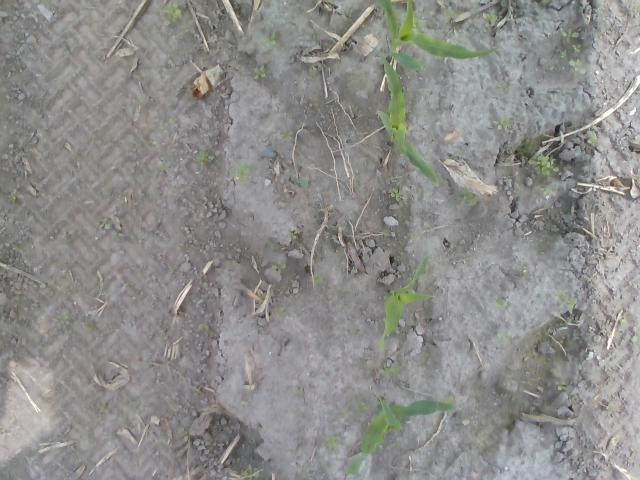Maize: (368, 46, 439, 186), (346, 393, 459, 478), (379, 0, 500, 60), (379, 254, 437, 355)
Weeds: (526, 154, 560, 180), (228, 162, 254, 186), (163, 1, 184, 30), (99, 215, 123, 240), (553, 294, 580, 314), (343, 400, 369, 417), (258, 30, 276, 54), (375, 364, 401, 380), (460, 188, 480, 206), (54, 316, 74, 334), (193, 152, 214, 169), (568, 59, 587, 76), (582, 130, 602, 146), (290, 176, 312, 190), (241, 466, 263, 480), (481, 8, 498, 26), (494, 118, 514, 132), (389, 188, 407, 202), (96, 402, 110, 418), (325, 434, 338, 451), (272, 261, 286, 276), (80, 318, 96, 331), (631, 324, 640, 347), (178, 425, 190, 442), (252, 66, 266, 80), (443, 6, 457, 20), (274, 307, 287, 322), (156, 161, 172, 173), (562, 28, 578, 40), (496, 332, 509, 346), (288, 226, 300, 240), (61, 228, 75, 240), (612, 316, 628, 326), (544, 186, 556, 198), (193, 386, 205, 398), (556, 380, 566, 393), (9, 190, 19, 203), (499, 78, 508, 92), (496, 298, 506, 310), (572, 44, 584, 54), (312, 274, 322, 286), (297, 387, 306, 397), (632, 0, 640, 11), (170, 112, 178, 122), (560, 50, 568, 58), (410, 232, 418, 240), (568, 394, 575, 403), (524, 266, 530, 275)
